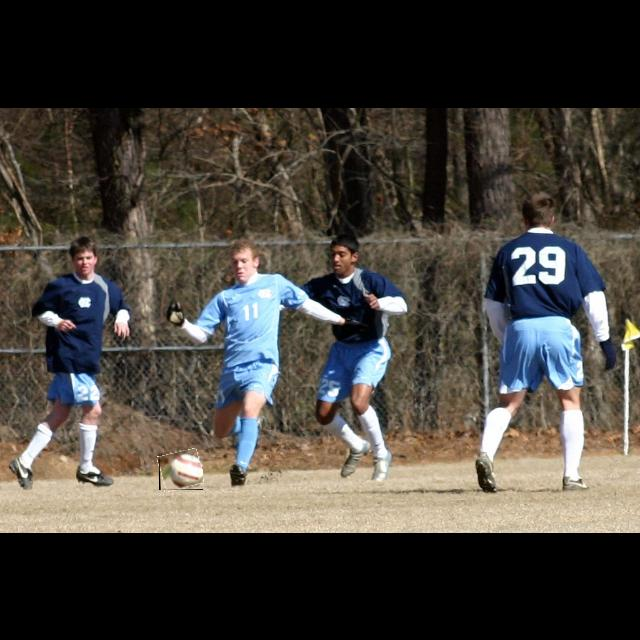Football: (159, 450, 203, 490)
